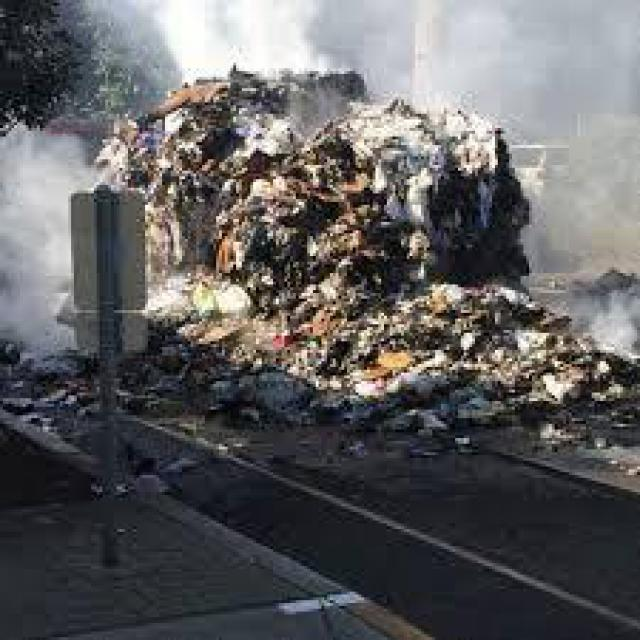garbage: (119, 66, 623, 467)
